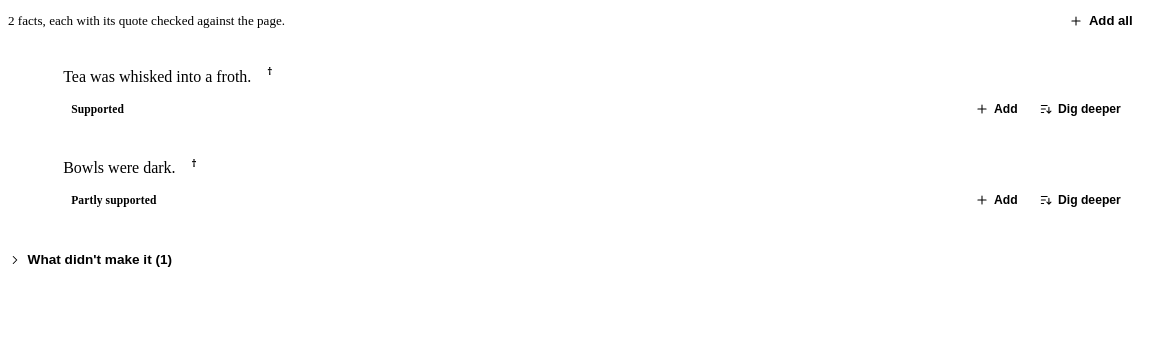
FactsView › shows what didn't make it, and why, when asked
Expected: the text "Tea came in bags." is not shown
What coordinates should you click on to do the following:
click the button "What didn't make it (1)"
I would click on:
 (90, 260)
Its box is [8, 247, 172, 272].
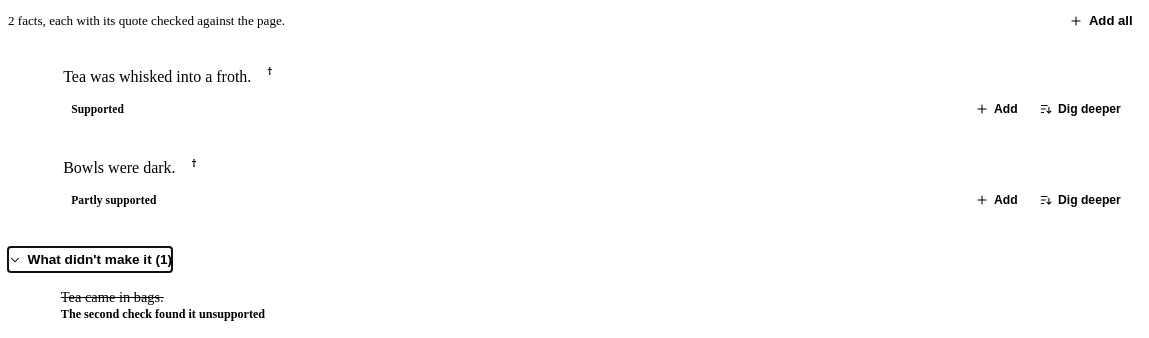
Expected: the text "Tea came in bags." is shown, [61, 289, 164, 305]
Expected: the text "The second check found it unsupported" is shown, [61, 307, 265, 321]
